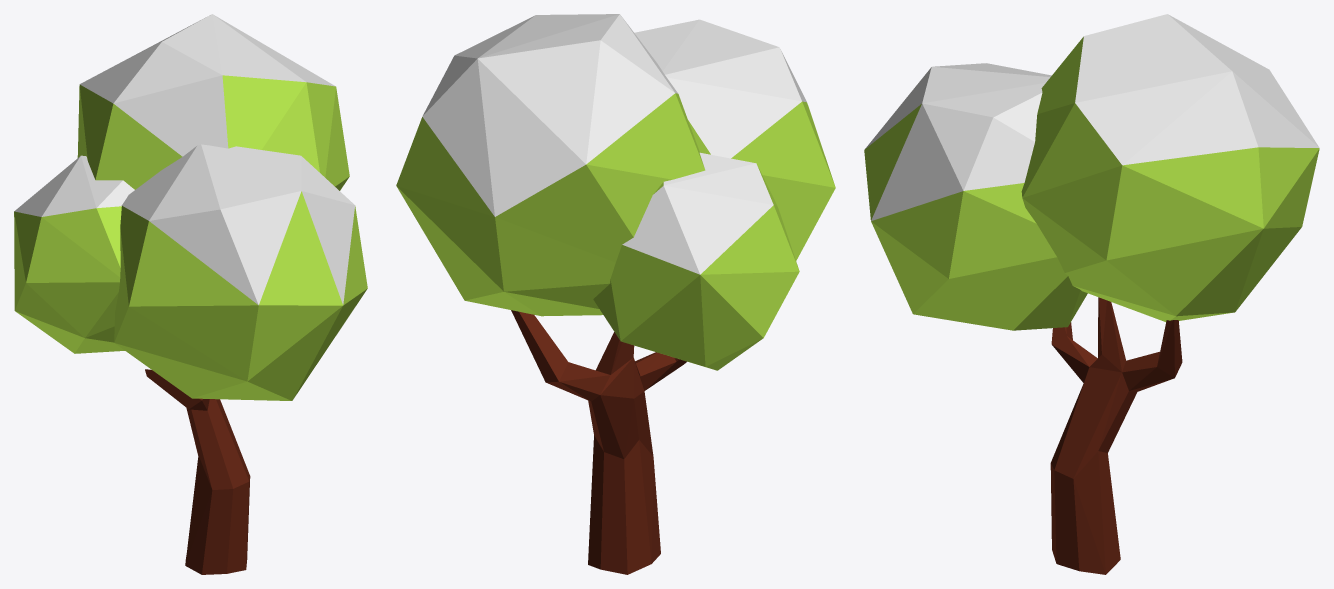
The model's file is Snow Tree.fbx.
3 views of the same model, side by side, from view 1: azimuth 30°, elevation 25°; view 2: azimuth 150°, elevation 25°; view 3: azimuth 270°, elevation 25° (orthographic). The views are drawn at different scales.
Parts seen in each view (by area): view 1: Green Tree 1.003; view 2: Green Tree 1.003; view 3: Green Tree 1.003.
Boxes of the visible parts, x1=… form: Green Tree 1.003: x1=14, y1=14, x2=367, y2=574; Green Tree 1.003: x1=396, y1=14, x2=835, y2=574; Green Tree 1.003: x1=864, y1=14, x2=1319, y2=574.
Bounding box in the file's own units: 2.56 × 3.88 × 2.97.
